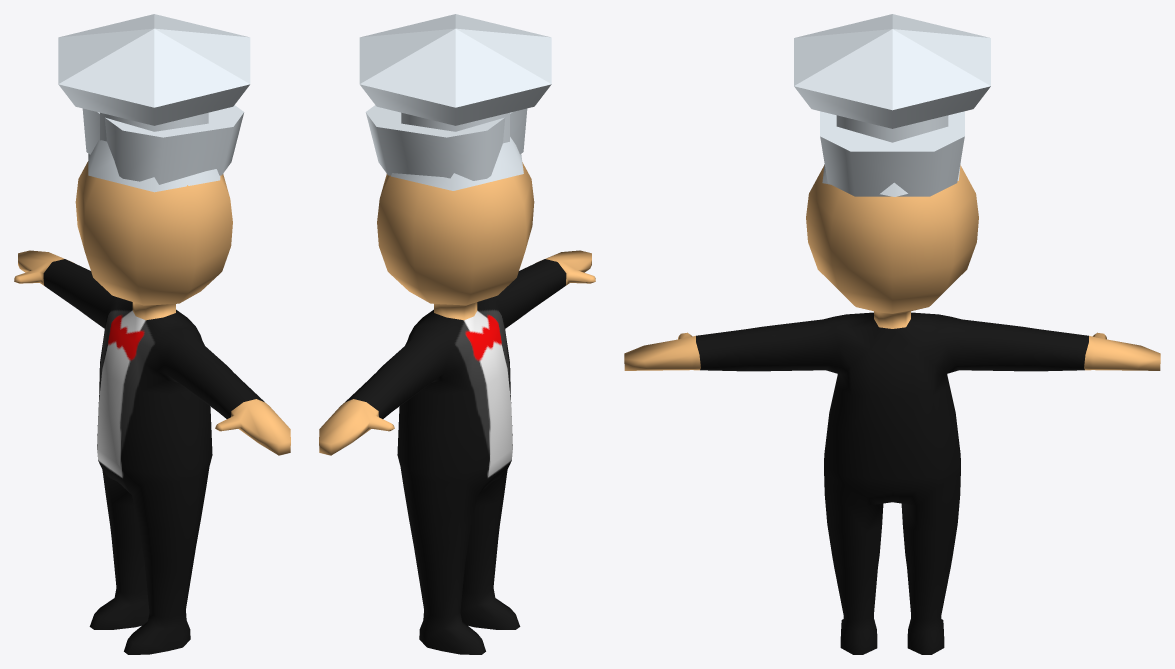
The model's file is New_Character.FBX.
3 views of the same model, side by side, from view 1: azimuth 30°, elevation 25°; view 2: azimuth 150°, elevation 25°; view 3: azimuth 270°, elevation 25° (orthographic). The views are drawn at different scales.
Parts seen in each view (by area): view 1: New_Character_Kitchen, Hat_Player_Chef (dung chung), Hat_Waiter, Hat_Porter; view 2: New_Character_Kitchen, Hat_Player_Chef (dung chung), Hat_Waiter, Hat_Porter; view 3: New_Character_Kitchen, Hat_Player_Chef (dung chung), Hat_Waiter.
Boxes of the visible parts, bbox=[...] form: New_Character_Kitchen: bbox=[14, 161, 290, 654]; Hat_Player_Chef (dung chung): bbox=[58, 14, 250, 141]; Hat_Waiter: bbox=[82, 105, 244, 184]; Hat_Porter: bbox=[88, 138, 220, 192]; New_Character_Kitchen: bbox=[319, 162, 595, 654]; Hat_Player_Chef (dung chung): bbox=[359, 14, 551, 143]; Hat_Waiter: bbox=[365, 105, 527, 180]; Hat_Porter: bbox=[391, 137, 523, 190]; New_Character_Kitchen: bbox=[624, 165, 1160, 654]; Hat_Player_Chef (dung chung): bbox=[794, 14, 990, 142]; Hat_Waiter: bbox=[820, 111, 964, 196].
Size of the model in its own units: 0.95 by 2.84 by 2.24.
